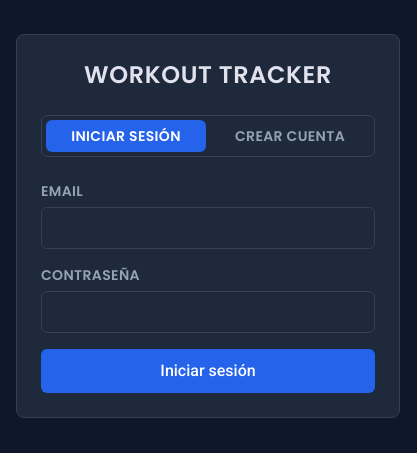
Test: LoginPage › shows a readable error message when login fails
Type "a@b.com" into the field labelled "Email".
click(208, 228); type("a@b.com")  # box [41,207,375,249]
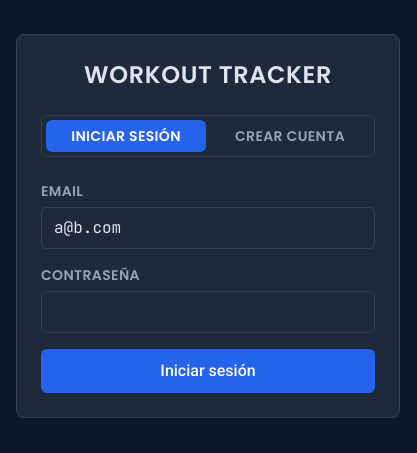
Type "wrong" into the password field labelled "Contraseña".
click(208, 312); type("wrong")  # box [41,291,375,333]
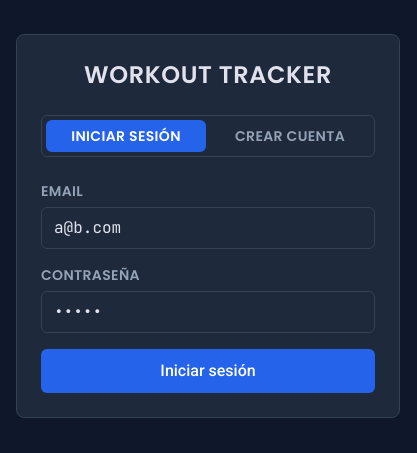
Click the button "Iniciar sesión".
click(208, 371)  # box [41,349,375,393]
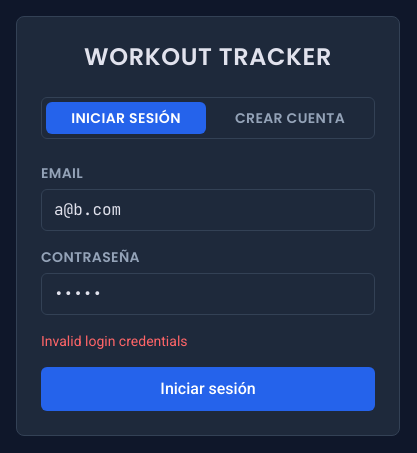
expect the text "Invalid login credentials" is shown: met, box [41,333,188,349]
